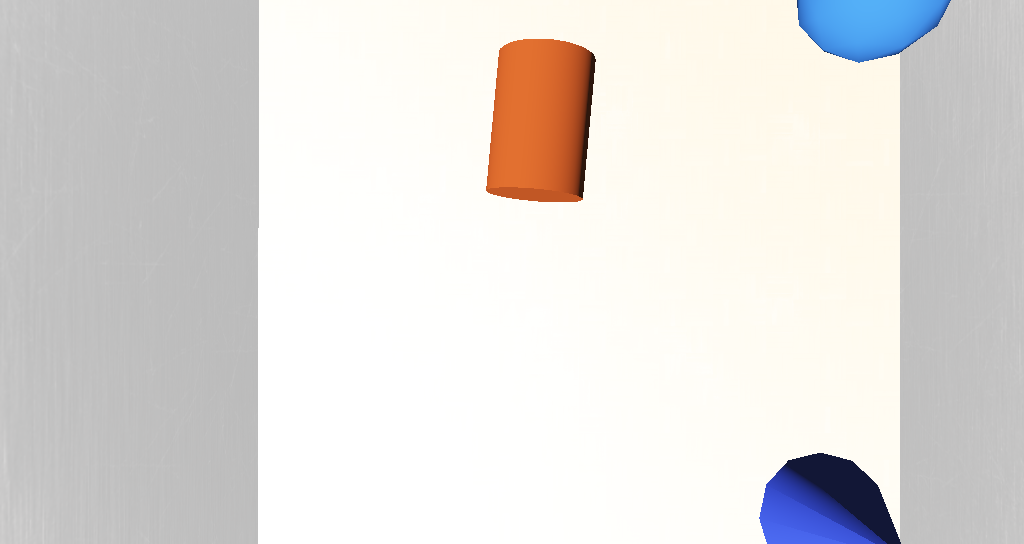cone: (458, 196, 512, 243)
cylinder: (596, 324, 670, 382)
sphere: (600, 160, 667, 203)
